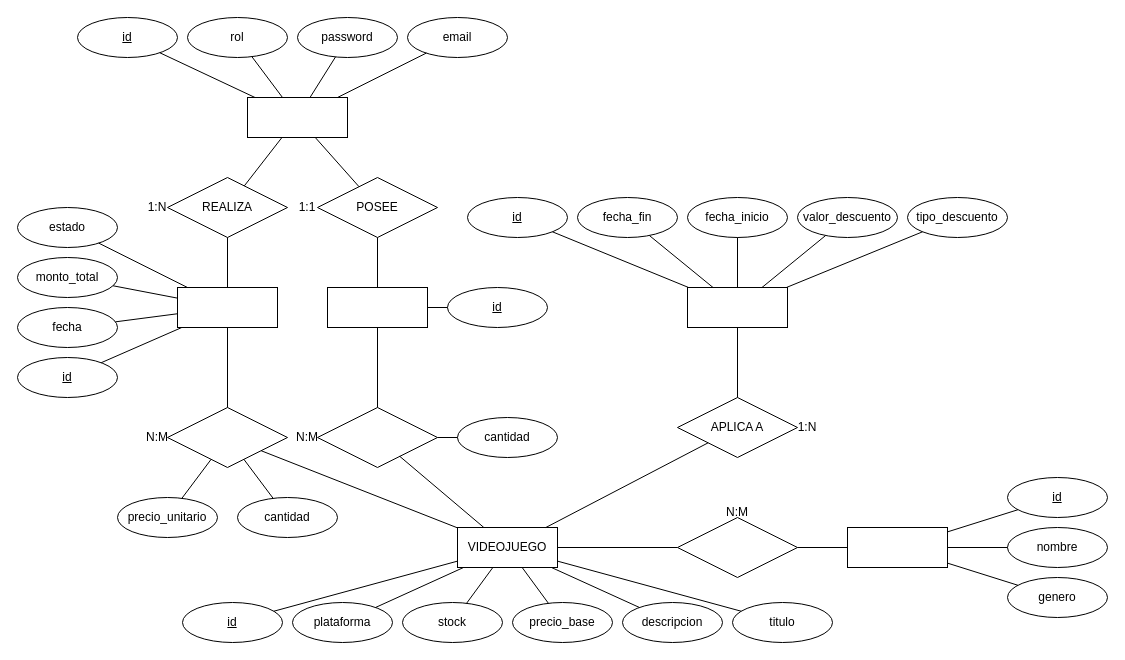
Some shapes in this 1125 by 660 pixel diagram are drawn without their labels. The shapes that lost their labels are listed below. From the top down, each one's box as (x1, y1, x2, y2) in pixels, then its label:
(246, 96, 348, 138): USUARIO
(176, 286, 278, 328): PEDIDO
(326, 286, 428, 328): CARRITO
(686, 286, 788, 328): PROMOCION
(166, 406, 288, 468): COMPONE
(316, 406, 438, 468): CONTIENE
(676, 516, 798, 578): CLASIFICADO EN
(846, 526, 948, 568): CATEGORIA
